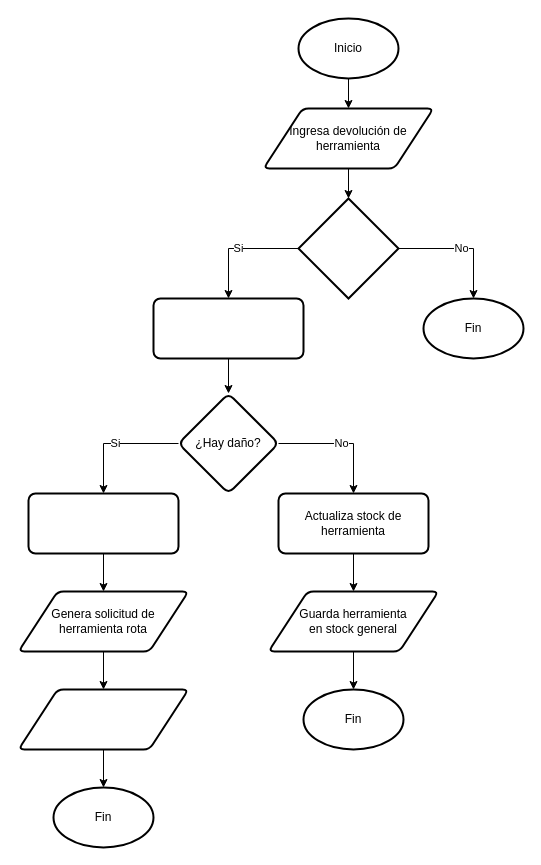
Some shapes in this 541 by 865 pixel diagram are drawn without their labels. Here are the shapes that lost their labels. From the top down, the centre of each, then its label:
At (x=348, y=248): "¿Hay herramienta?".
At (x=228, y=328): "Analiza herramienta".
At (x=103, y=523): "Cambia estado de herramienta".
At (x=103, y=719): "Guarda herramienta en stock dañado".
